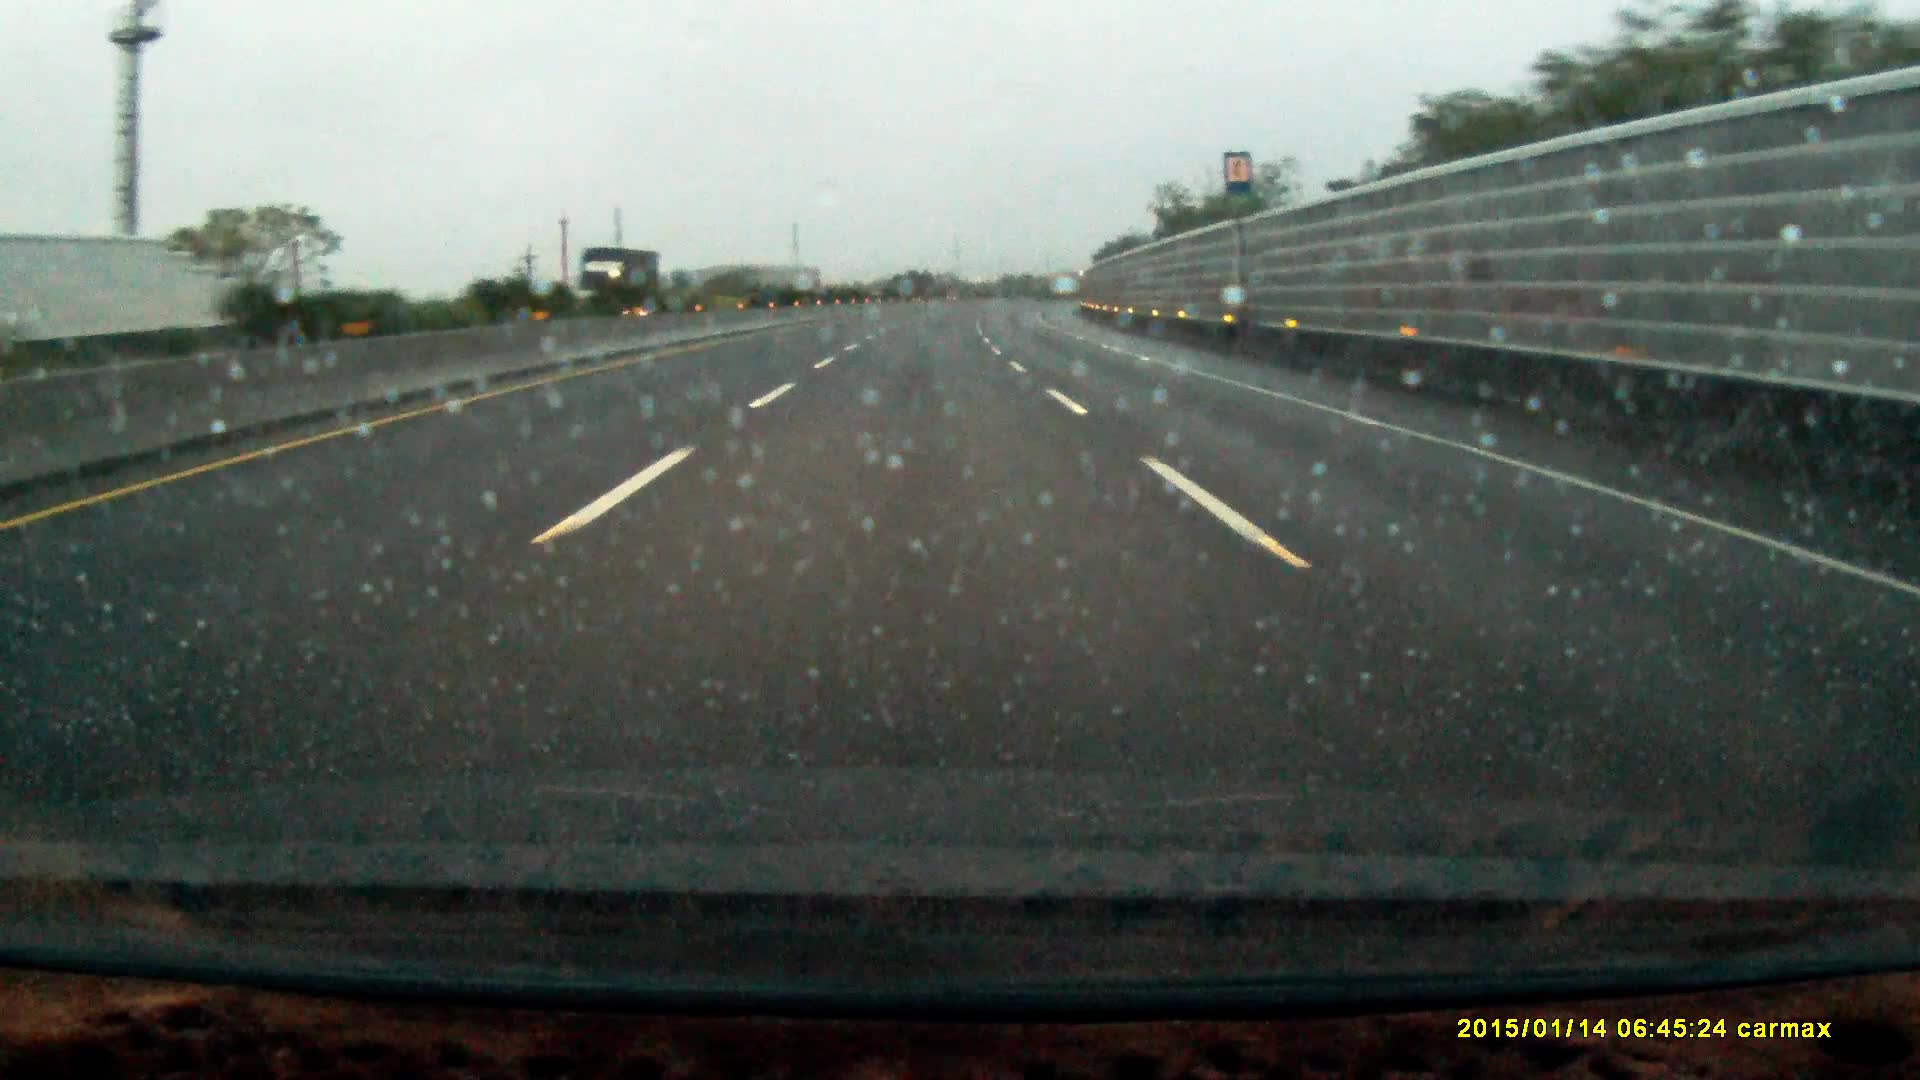vehicle: (580, 247, 663, 316)
